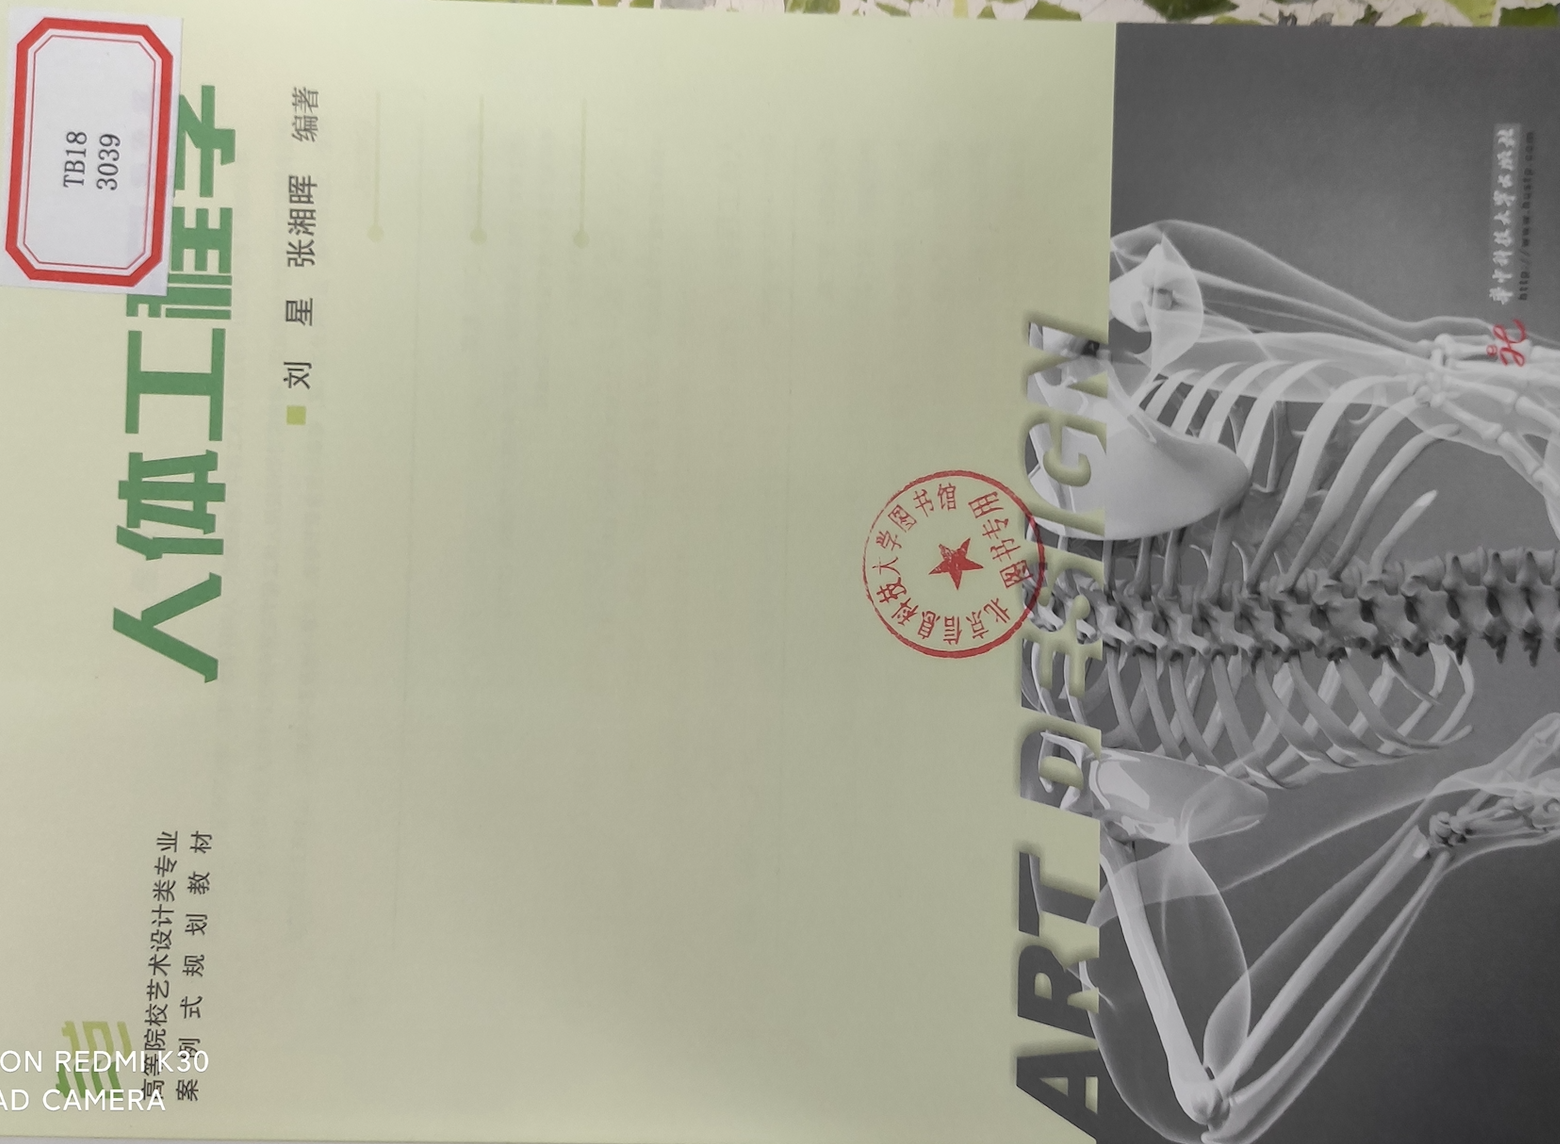Text_area: (838, 161, 1560, 1121), (8, 11, 327, 734), (25, 780, 262, 1144)
